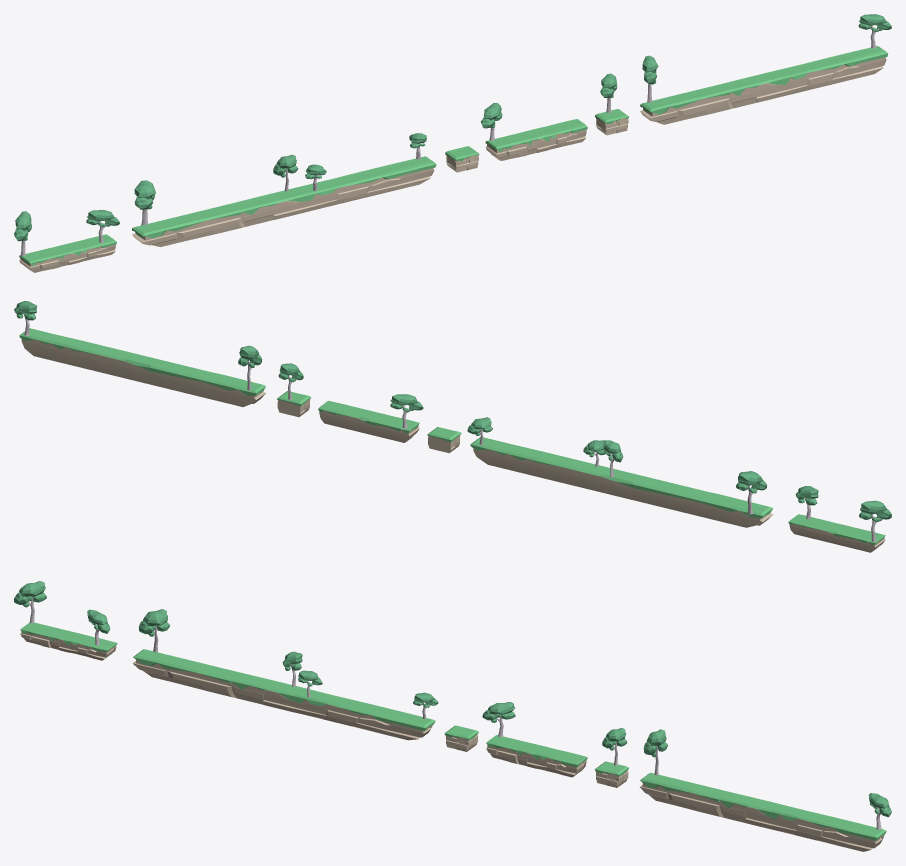
File: Park_Map_lvl_4.fbx
The picture shows the model from 3 angles, top to bottom: view 1: azimuth 30°, elevation 25°; view 2: azimuth 150°, elevation 25°; view 3: azimuth 330°, elevation 25°; orthographic projection.
Visible parts, largest first — view 1: polySurface408; view 2: polySurface408; view 3: polySurface408.
Boxes of the visible parts, box(x1,y1,x2,y2) form: polySurface408: box(14, 14, 891, 272); polySurface408: box(14, 301, 891, 552); polySurface408: box(14, 581, 891, 851).
Size of the model in its own units: 347 by 23.74 by 12.72.
